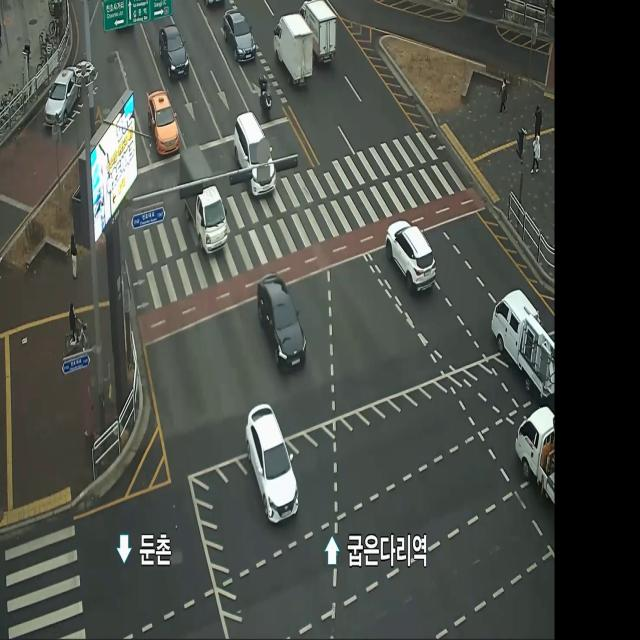bus: (260, 71, 276, 124)
motorcycle: (238, 390, 302, 539), (251, 267, 317, 381), (381, 210, 435, 290), (36, 64, 85, 138), (159, 14, 202, 90), (146, 91, 190, 157), (224, 2, 253, 74)
truck: (484, 277, 554, 395), (181, 135, 226, 258), (515, 396, 559, 506), (270, 17, 314, 87), (301, 0, 339, 62)
